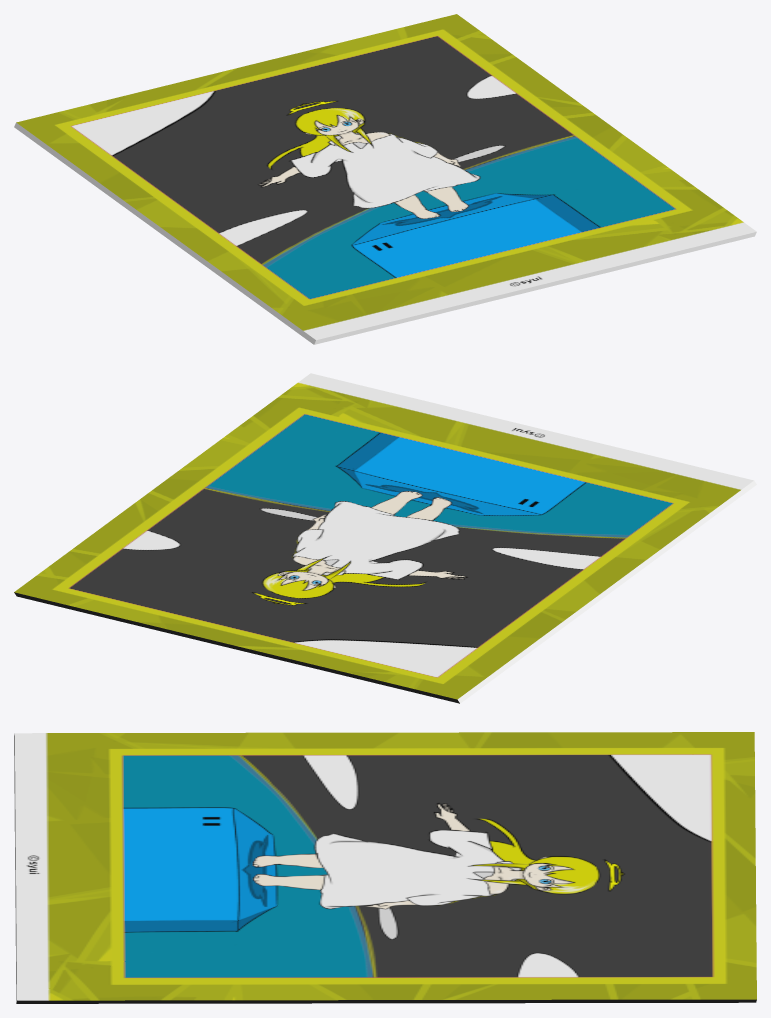
File: card_13v3.glb
The picture shows the model from 3 angles, top to bottom: view 1: azimuth 30°, elevation 25°; view 2: azimuth 150°, elevation 25°; view 3: azimuth 270°, elevation 25°; orthographic projection. The views are drawn at different scales.
Parts seen in each view (by area): view 1: Object_2; view 2: Object_2; view 3: Object_2.
Boxes of the visible parts, x1,y1,x2,y2 form: Object_2: [14, 14, 756, 344]; Object_2: [14, 373, 756, 703]; Object_2: [14, 732, 756, 1003].
Size of the model in its own units: 5.14 by 0.0425 by 5.98.
Materials: 2 (2 with a texture image).
